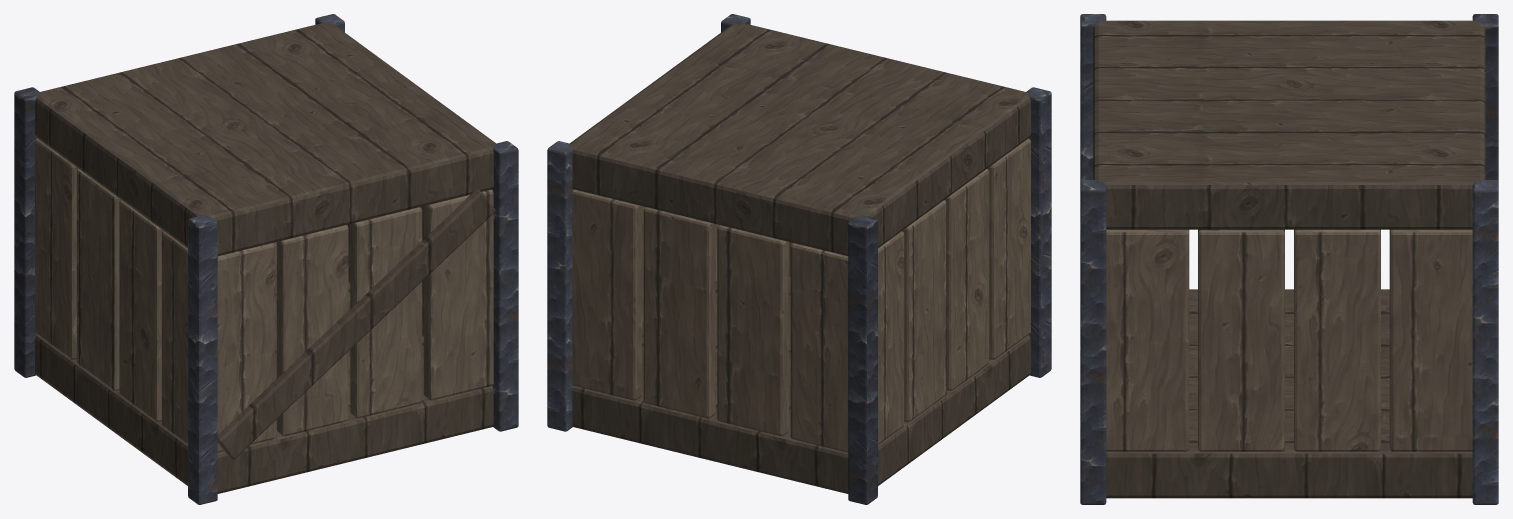
Rendered from crate__plank_mushroom.glb.
The picture shows the model from 3 angles, left to right: view 1: azimuth 30°, elevation 25°; view 2: azimuth 150°, elevation 25°; view 3: azimuth 270°, elevation 25°; orthographic projection. The views are drawn at different scales.
Visible parts, largest first — view 1: model; view 2: model; view 3: model.
Part boxes in pixels (box(x1,y1,x2,y2)): model: box(14, 14, 518, 504); model: box(547, 14, 1051, 504); model: box(1080, 14, 1498, 504).
Size of the model in its own units: 0.96 by 0.8 by 0.96.
Materials: 5 (5 with a texture image).
